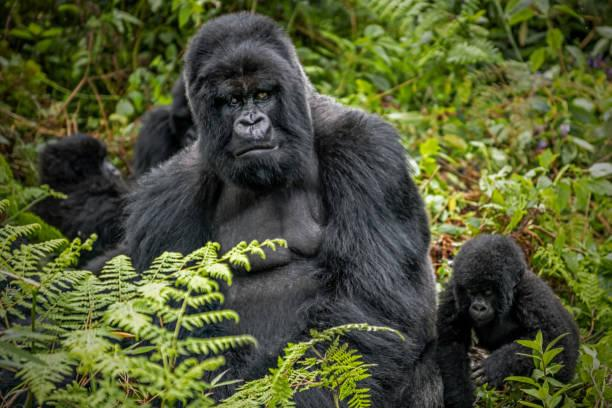goriile_montagne: (141, 21, 430, 396), (434, 211, 593, 408), (47, 137, 138, 243)
